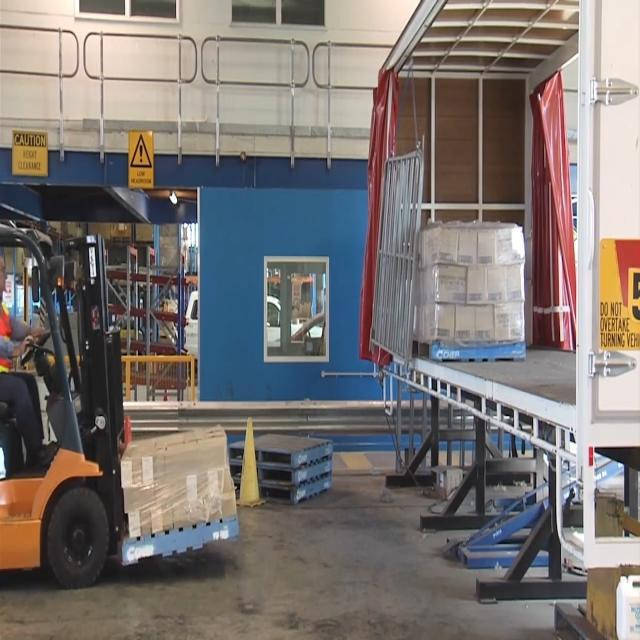box: (117, 405, 249, 553), (408, 202, 531, 345)
forklift: (0, 169, 242, 627)
pallets: (221, 422, 338, 517), (117, 505, 250, 579), (424, 324, 538, 381)
person: (0, 230, 63, 485)
